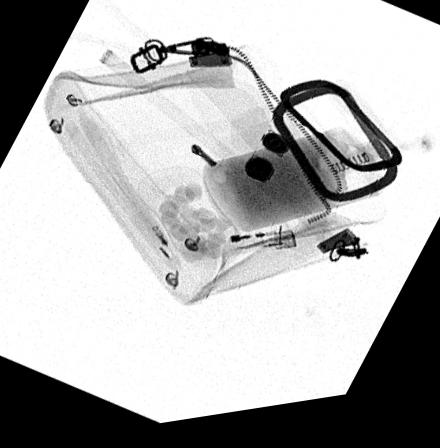Lighter: (206, 232, 295, 263)
